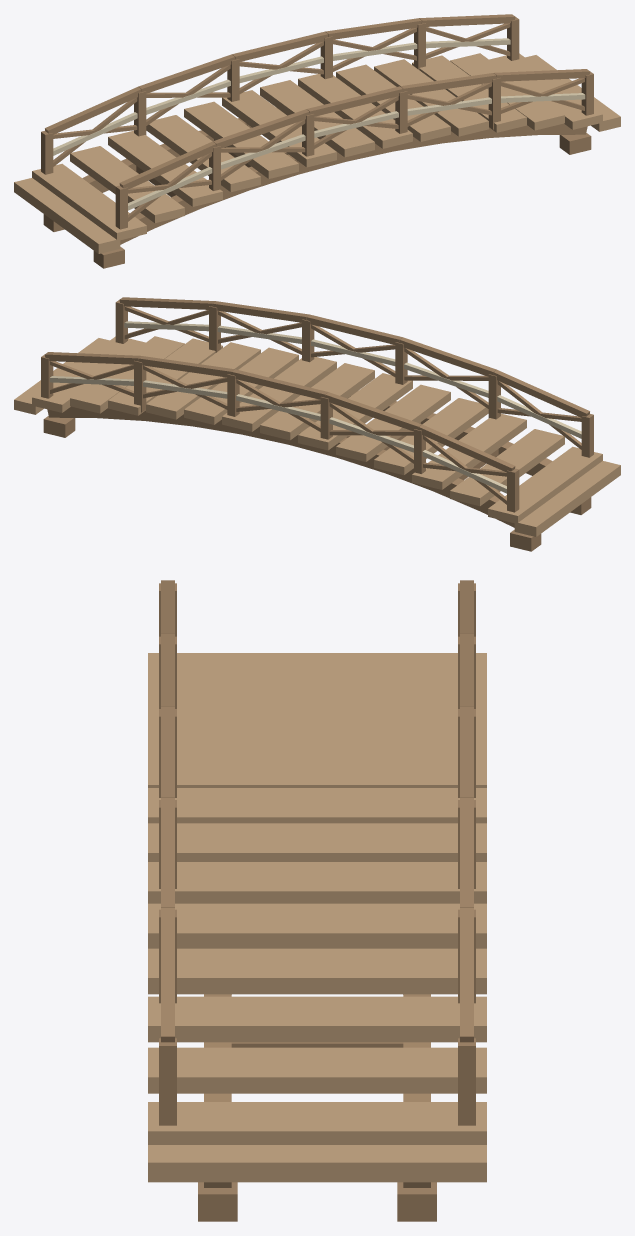
File: bridge-wood.glb
3 views of the same model, one above another, from view 1: azimuth 30°, elevation 25°; view 2: azimuth 150°, elevation 25°; view 3: azimuth 270°, elevation 25° (orthographic). The views are drawn at different scales.
Visible parts, largest first — view 1: world; view 2: world; view 3: world.
Boxes of the visible parts, left/top/right/bottom form: world: left=14, top=14, right=620, bottom=268; world: left=14, top=297, right=620, bottom=551; world: left=148, top=580, right=486, bottom=1221.
Bounding box in the file's own units: 1.21 × 0.2564 × 0.34.
